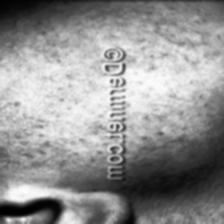Non-Cancerous Skin Condition: (0, 0, 101, 182), (129, 26, 224, 171)
